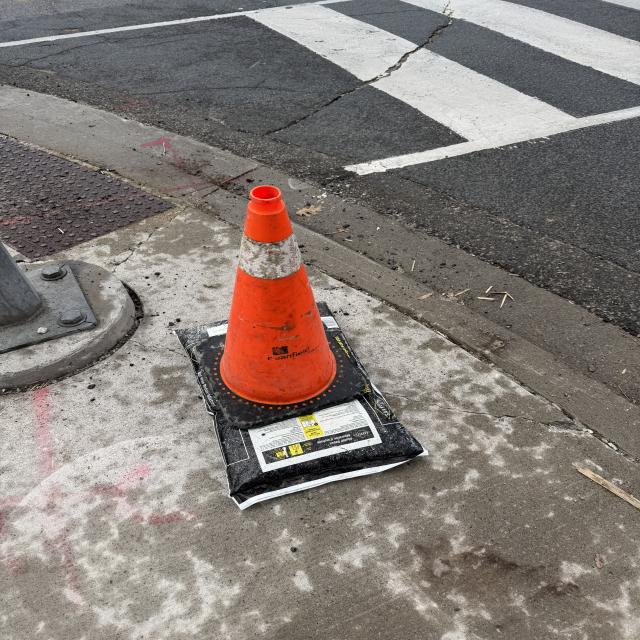Traffic Cone: (200, 185, 367, 427)
